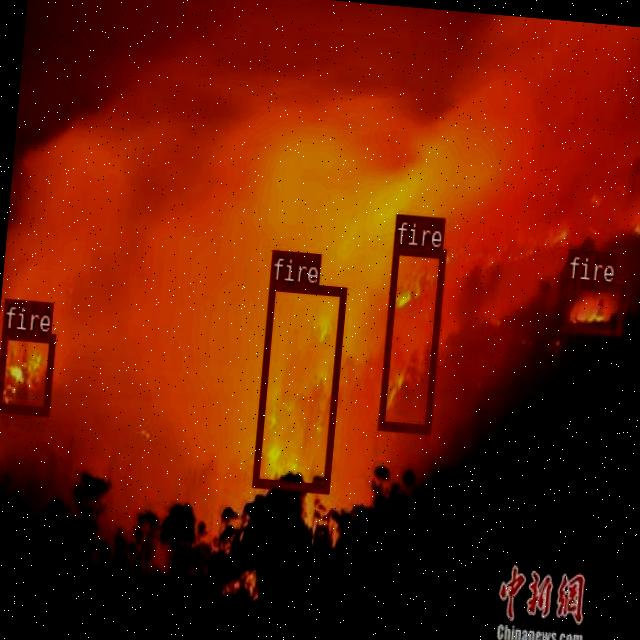fire: (250, 280, 346, 491), (376, 244, 445, 431), (0, 329, 54, 414), (560, 277, 624, 334)
